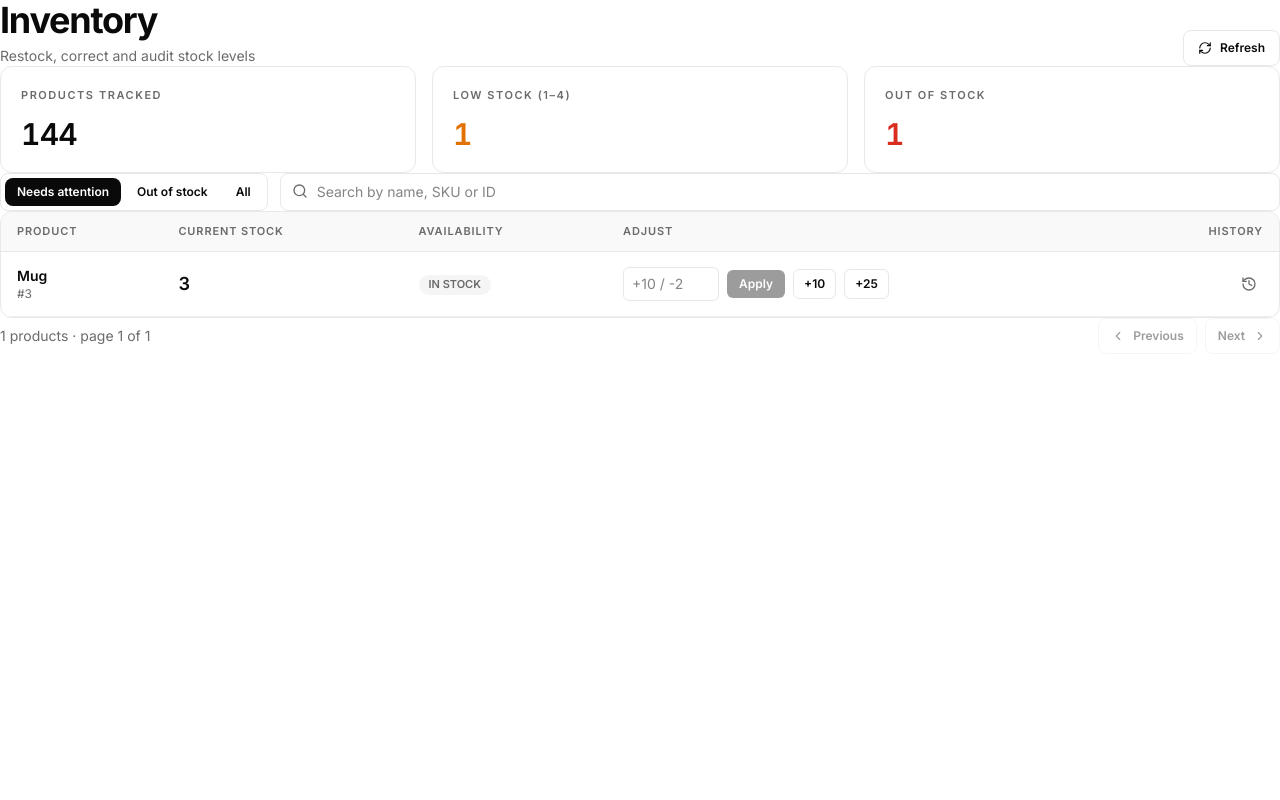
Scenario: admin inventory › shows the stock history of a product
expect the text "Mug" is shown: met, box [17, 267, 47, 284]
Click the button named "Stock history for Mug": coordinates (1249, 284) [1235, 270, 1263, 298]
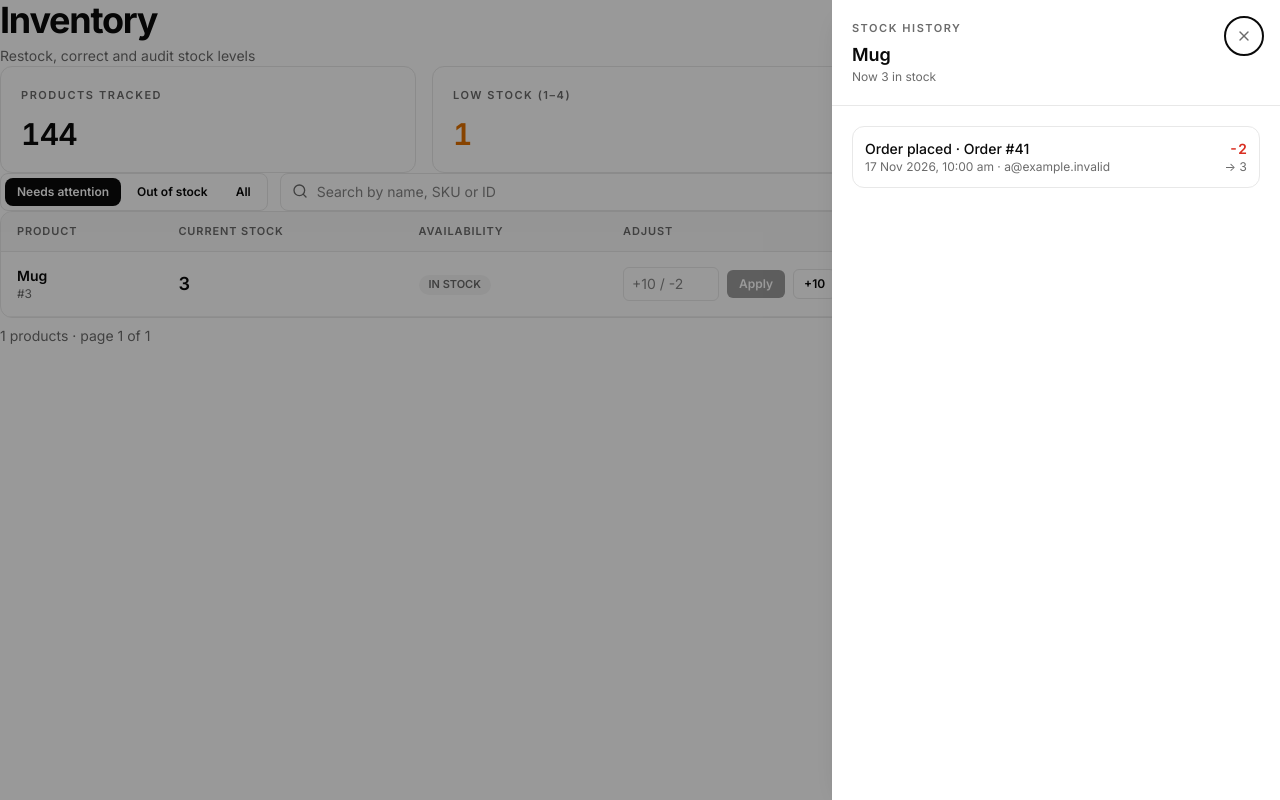
expect the text "Order placed · Order #41" is shown: met, box [865, 140, 1029, 156]
expect the text "-2" is shown: met, box [1229, 140, 1247, 156]
